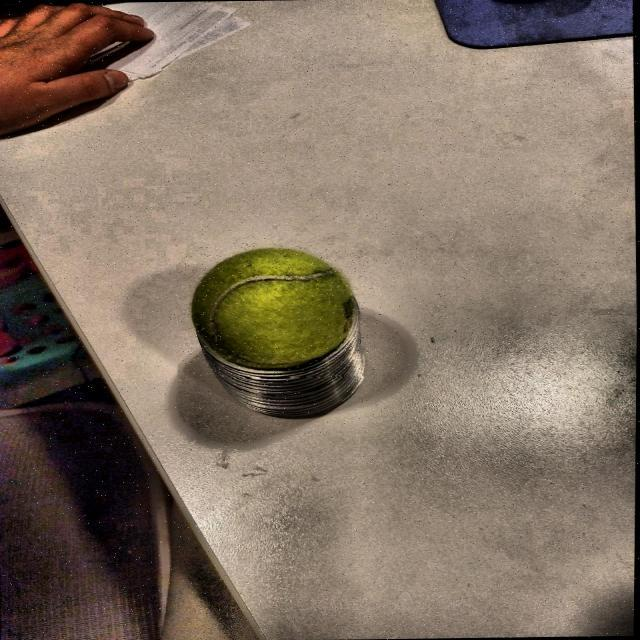tennis-ball: (176, 242, 380, 380)
